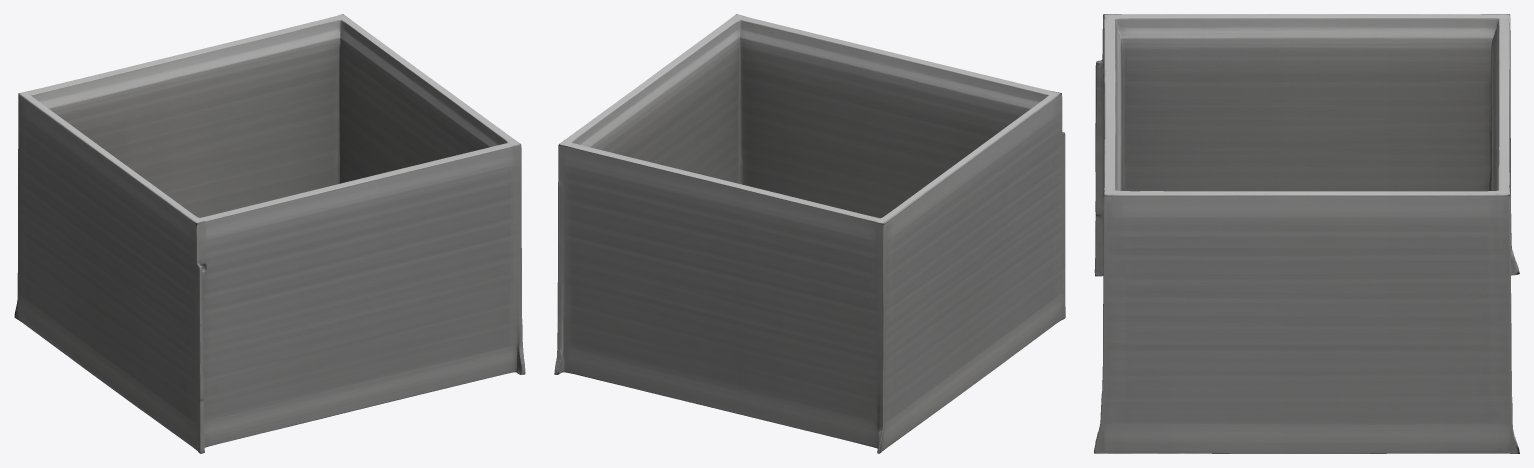
3 views of the same model, side by side, from view 1: azimuth 30°, elevation 25°; view 2: azimuth 150°, elevation 25°; view 3: azimuth 270°, elevation 25° (orthographic). The views are drawn at different scales.
Parts seen in each view (by area): view 1: world; view 2: world; view 3: world.
Boxes of the visible parts, x1=… form: world: x1=14, y1=14, x2=525, y2=453; world: x1=554, y1=14, x2=1065, y2=453; world: x1=1094, y1=14, x2=1519, y2=453.
Size of the model in its own units: 1 by 0.6688 by 0.9937.
Materials: 1 (1 with a texture image).
